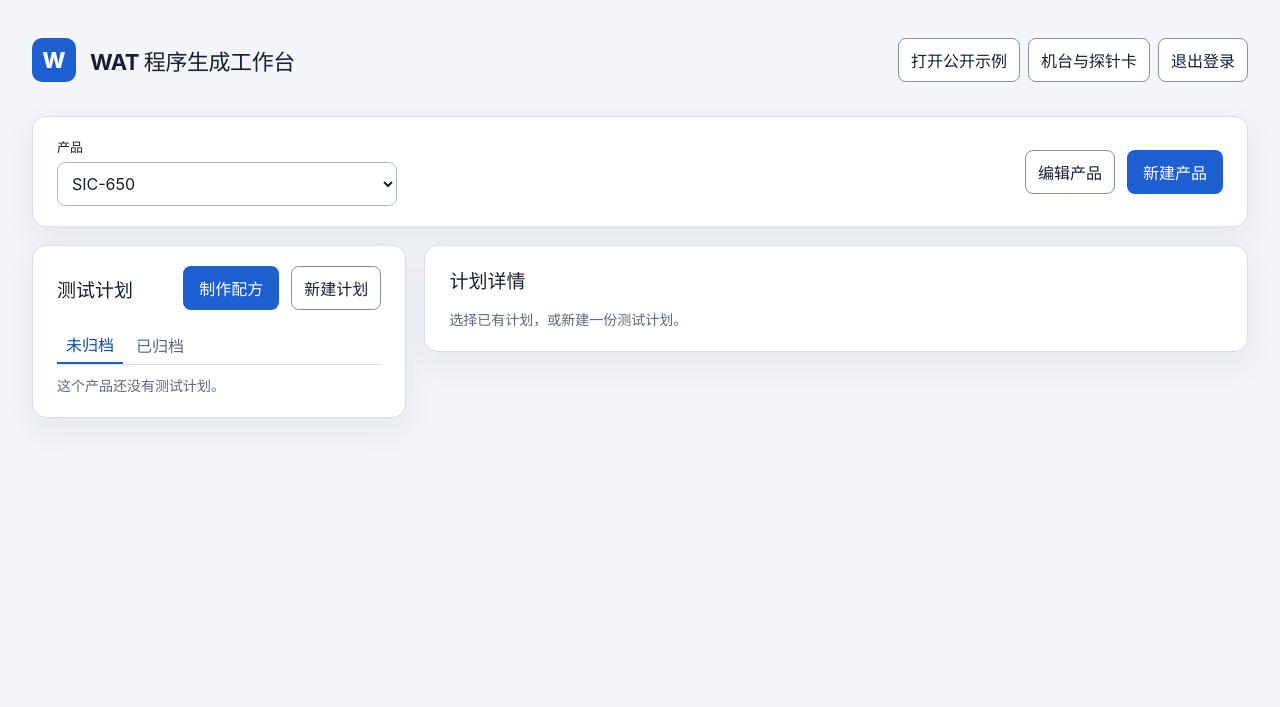
Scenario: WAT pilot › keeps the plan draft when a save requires a fresh login
Click the button "新建计划" at (336, 288), box x1=291 y1=266 x2=381 y2=310
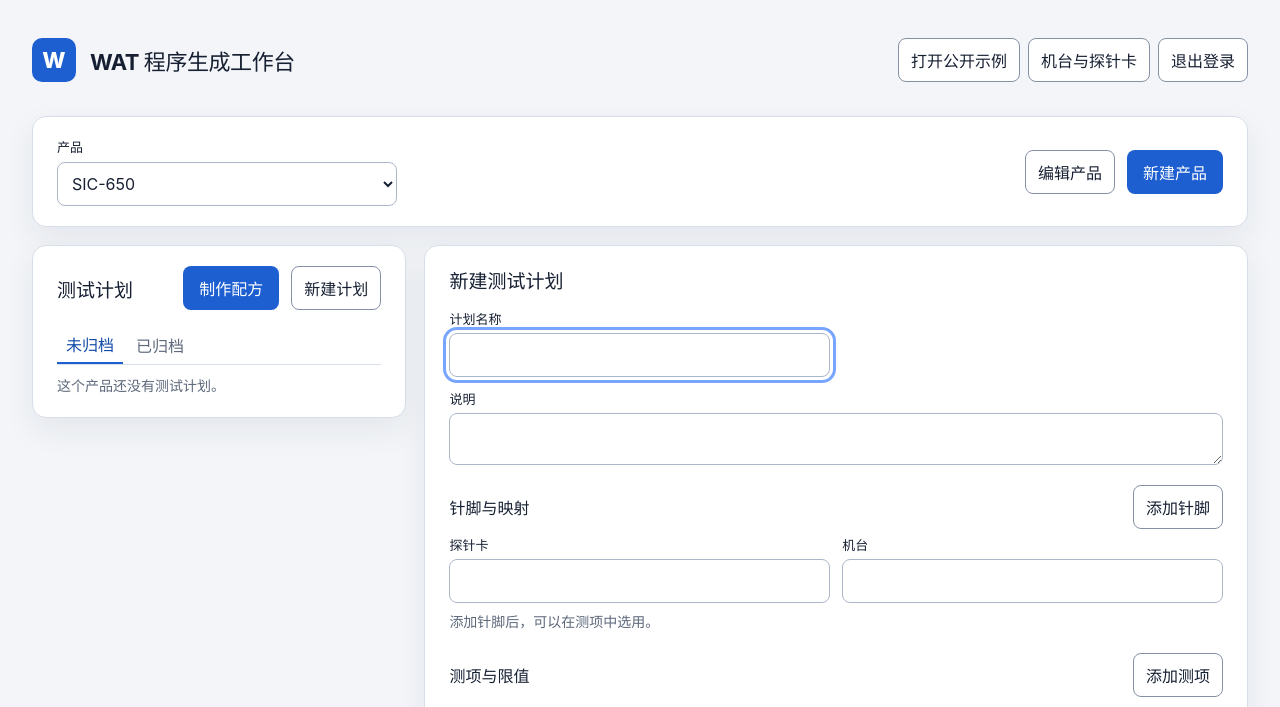
Type "漏电验证" into the field labelled "计划名称" at (640, 355), box x1=449 y1=333 x2=830 y2=377
(page scrolled)
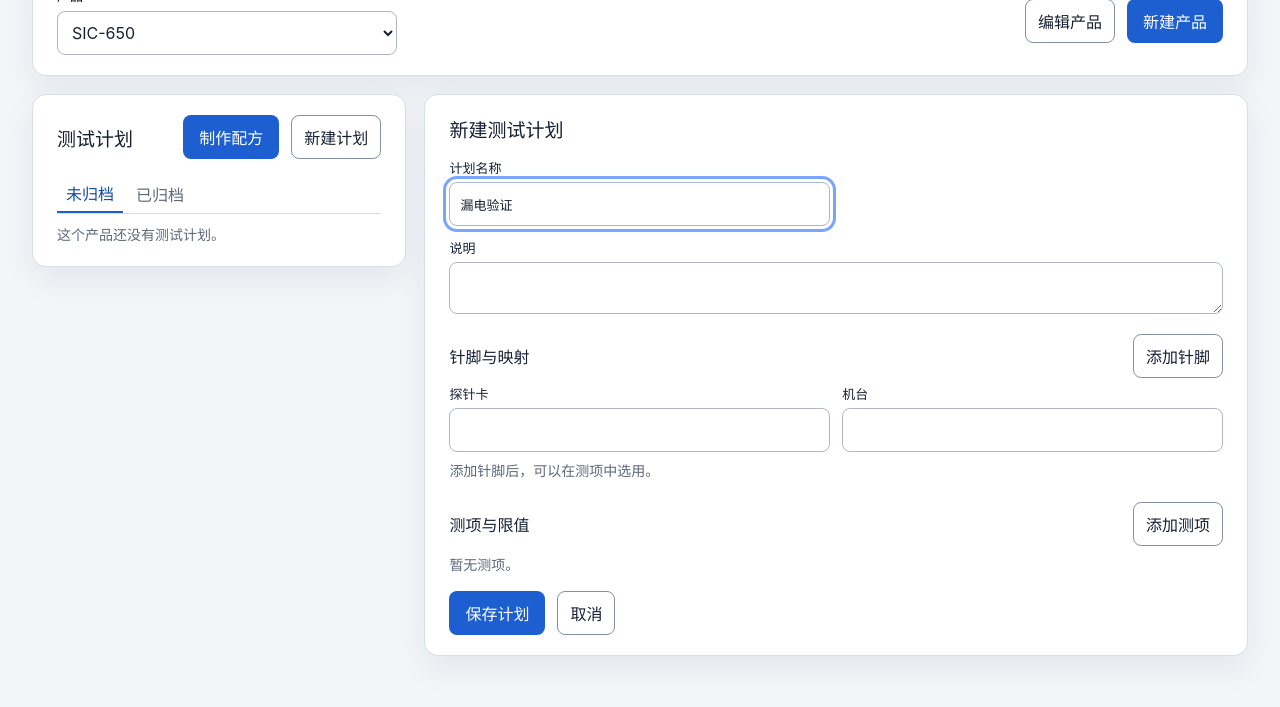
Click the button "保存计划" at (497, 613), box x1=449 y1=591 x2=545 y2=635
(page scrolled)
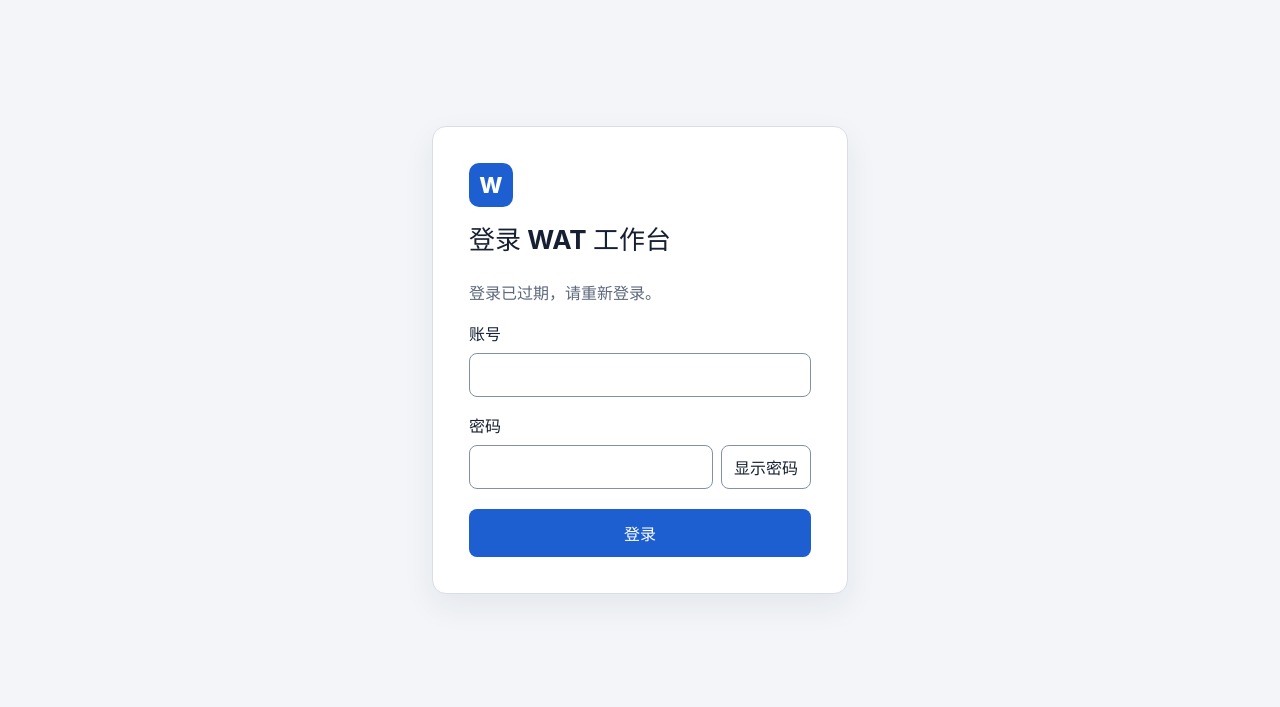
Type "operator" into the field labelled "账号" at (640, 375), box x1=469 y1=353 x2=811 y2=397
Type "fixture-password" into the password field labelled "密码" at (591, 467), box x1=469 y1=445 x2=713 y2=489
Click the button "登录" at (640, 533), box x1=469 y1=509 x2=811 y2=557
(page scrolled)
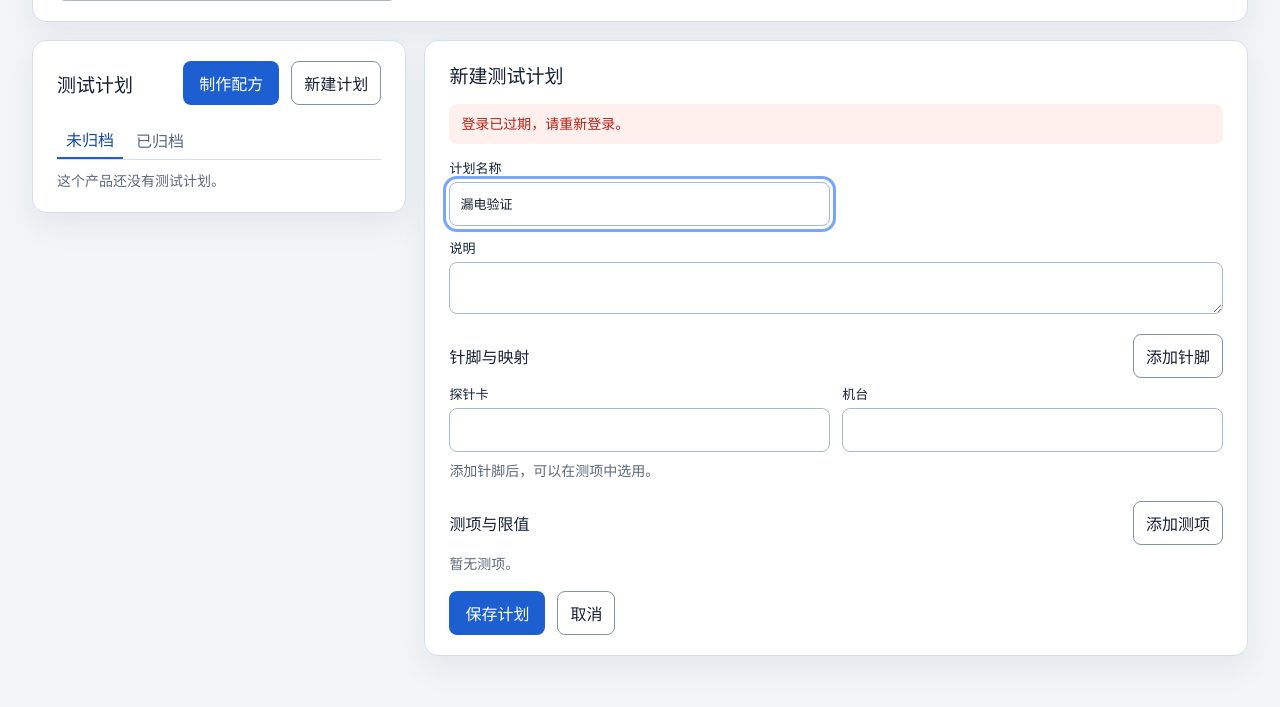
Click the button "保存计划" at (497, 613), box x1=449 y1=591 x2=545 y2=635
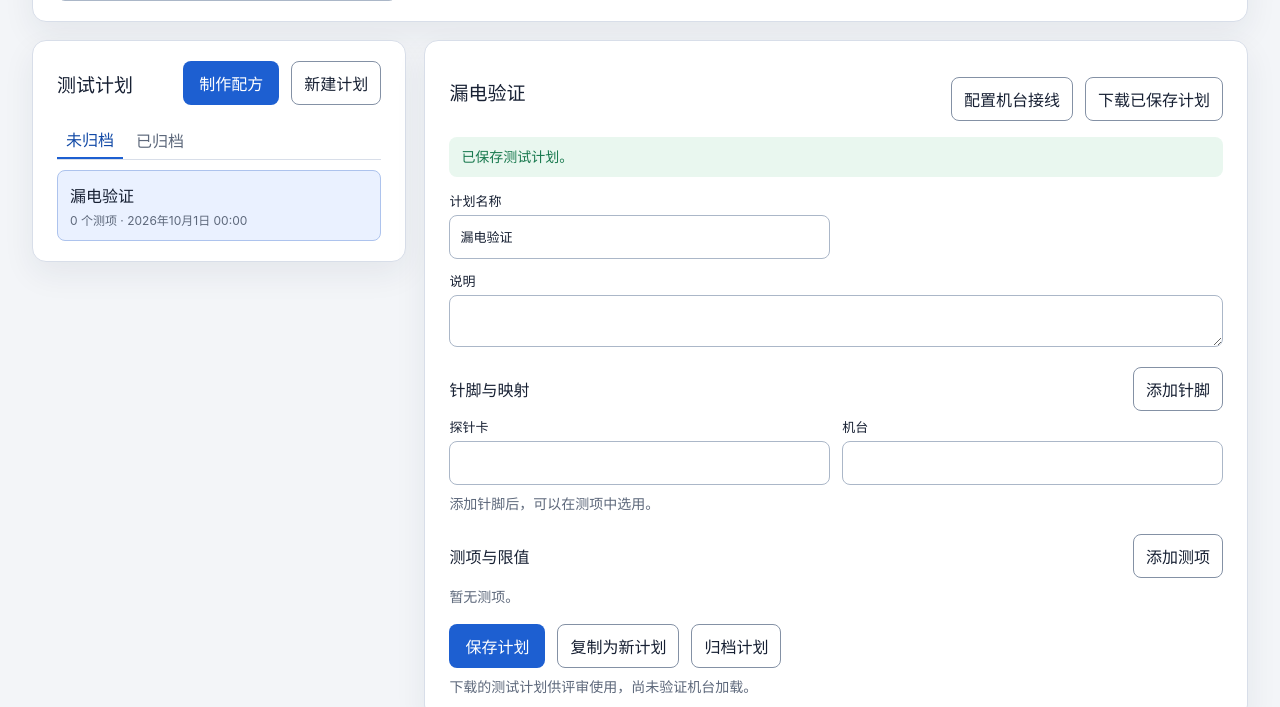
Click the link "下载已保存计划" at (1154, 99), box x1=1085 y1=77 x2=1223 y2=121
(page scrolled)
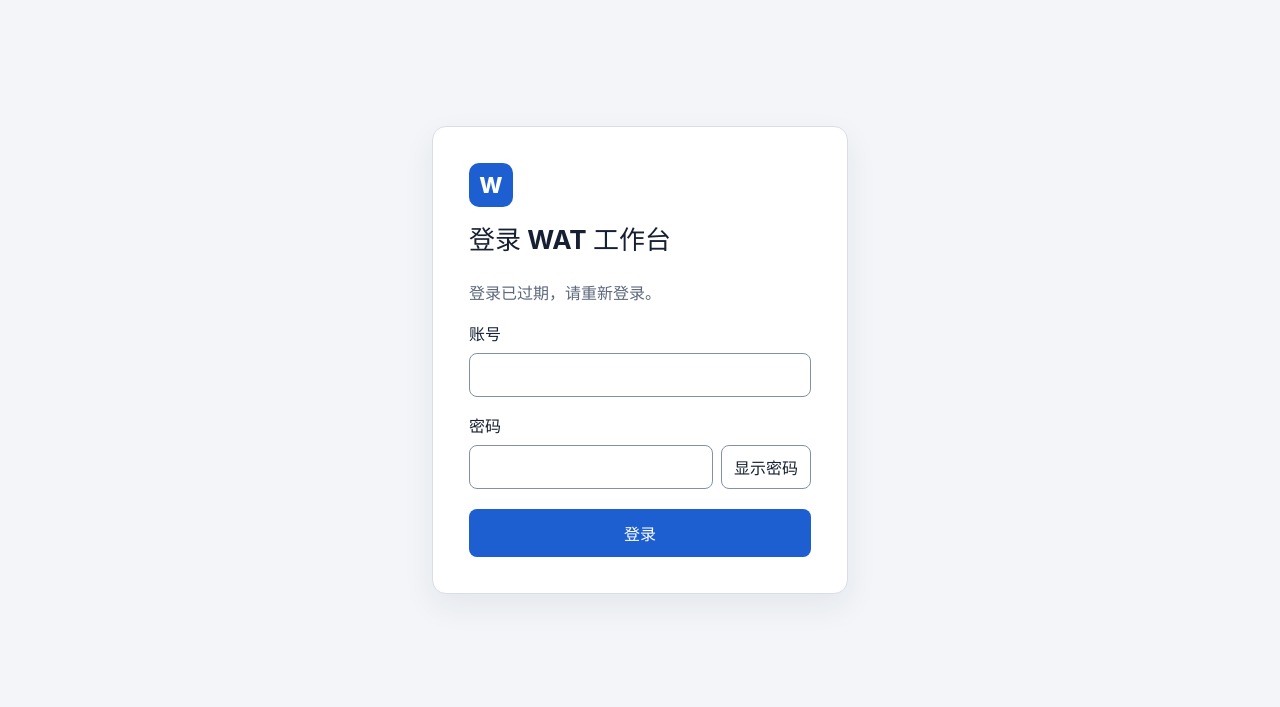
Result: the heading "登录 WAT 工作台" is shown at x1=469 y1=224 x2=671 y2=255
